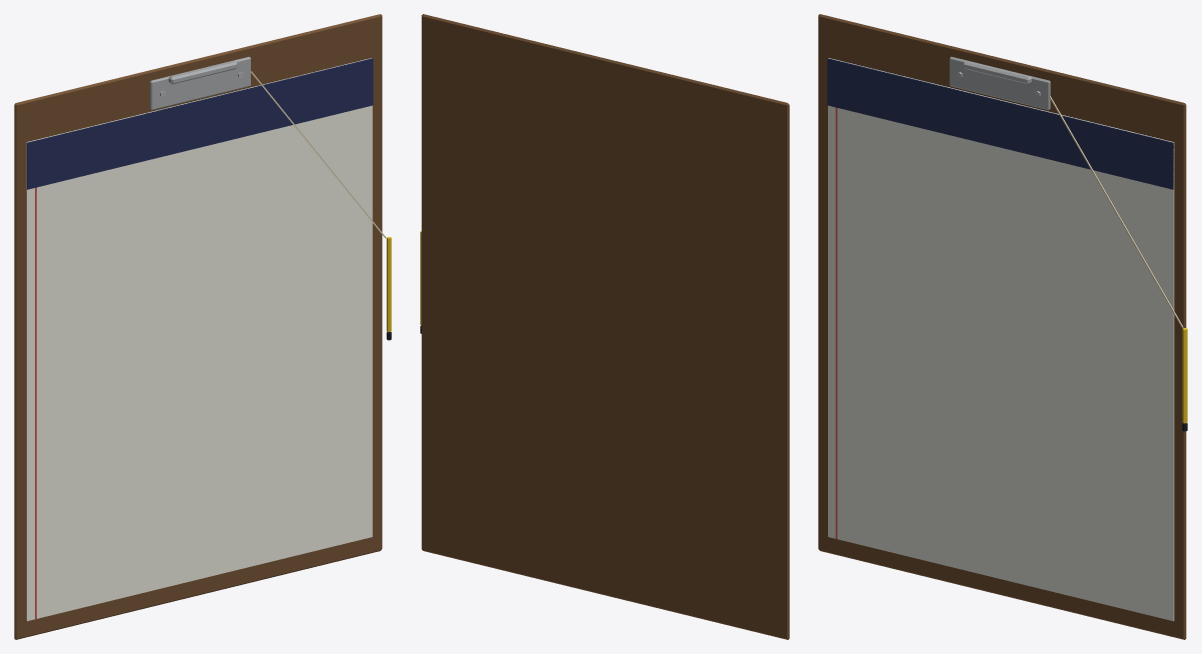
The model's file is room.timesheet.glb.
The picture shows the model from 3 angles, left to right: view 1: azimuth 30°, elevation 25°; view 2: azimuth 150°, elevation 25°; view 3: azimuth 330°, elevation 25°; orthographic projection.
Visible parts, largest first — view 1: sheet, board, header, clip-plate, margin, clip-lever, pencil; view 2: board; view 3: sheet, board, header, clip-plate, margin, clip-lever, pencil-string, pencil.
Part boxes in pixels (x1=…): sheet: x1=26, y1=58, x2=372, y2=621; board: x1=14, y1=14, x2=382, y2=639; header: x1=26, y1=58, x2=373, y2=189; clip-plate: x1=150, y1=57, x2=250, y2=109; margin: x1=35, y1=187, x2=36, y2=619; clip-lever: x1=168, y1=60, x2=237, y2=84; pencil: x1=386, y1=237, x2=391, y2=331; board: x1=421, y1=14, x2=789, y2=639; sheet: x1=828, y1=58, x2=1174, y2=621; board: x1=818, y1=14, x2=1186, y2=639; header: x1=827, y1=58, x2=1173, y2=189; clip-plate: x1=949, y1=56, x2=1050, y2=110; margin: x1=835, y1=107, x2=837, y2=539; clip-lever: x1=963, y1=60, x2=1031, y2=84; pencil-string: x1=1049, y1=96, x2=1183, y2=327; pencil: x1=1182, y1=328, x2=1187, y2=423.
Bounding box in the file's own units: 0.6685 × 0.92 × 0.024.
